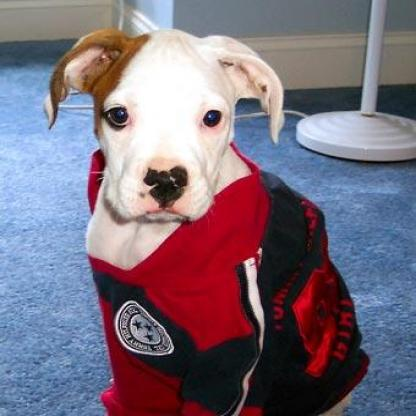boxer: (33, 26, 370, 414)
